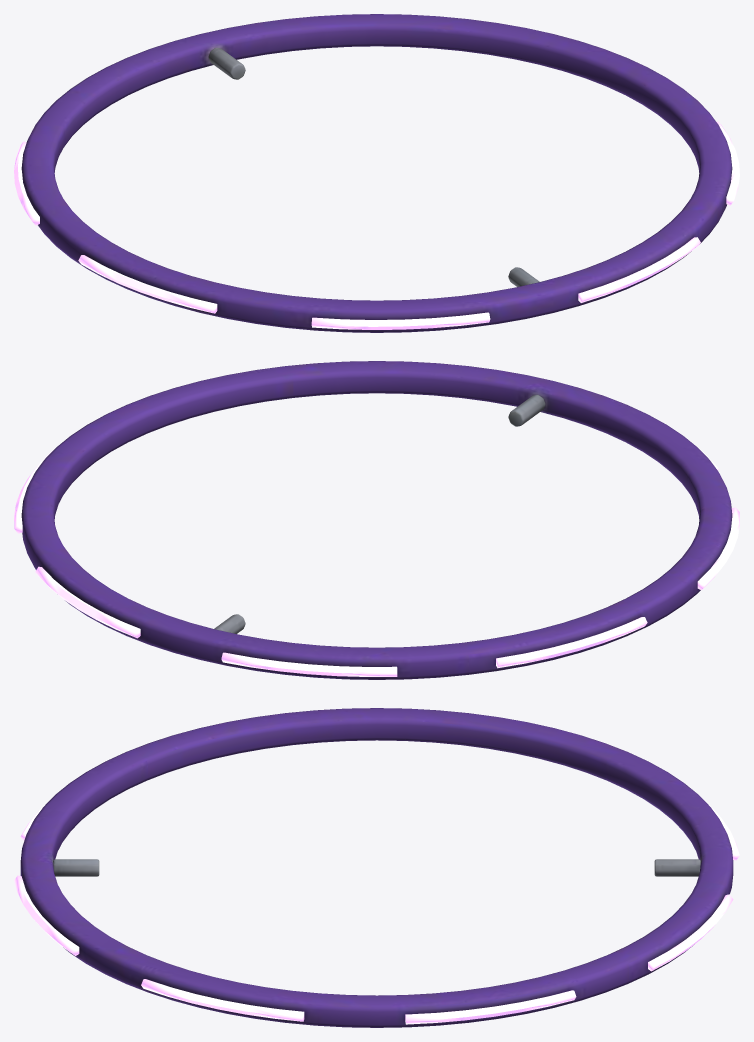
Rendered from badge_sf_ring_mid.glb.
The picture shows the model from 3 angles, top to bottom: view 1: azimuth 30°, elevation 25°; view 2: azimuth 150°, elevation 25°; view 3: azimuth 270°, elevation 25°; orthographic projection.
Parts seen in each view (by area): view 1: badge_sf_ring_mid, badge_sf_ring_mid_glow; view 2: badge_sf_ring_mid, badge_sf_ring_mid_glow; view 3: badge_sf_ring_mid, badge_sf_ring_mid_glow.
Boxes of the visible parts, left/top/right/bottom form: badge_sf_ring_mid: left=21, top=14, right=732, bottom=332; badge_sf_ring_mid_glow: left=14, top=121, right=739, bottom=329; badge_sf_ring_mid: left=21, top=361, right=732, bottom=679; badge_sf_ring_mid_glow: left=14, top=449, right=739, bottom=676; badge_sf_ring_mid: left=20, top=708, right=733, bottom=1027; badge_sf_ring_mid_glow: left=14, top=795, right=739, bottom=1024.
Size of the model in its own units: 1.57 by 0.055 by 1.57.
Materials: 2 (1 with a texture image).
